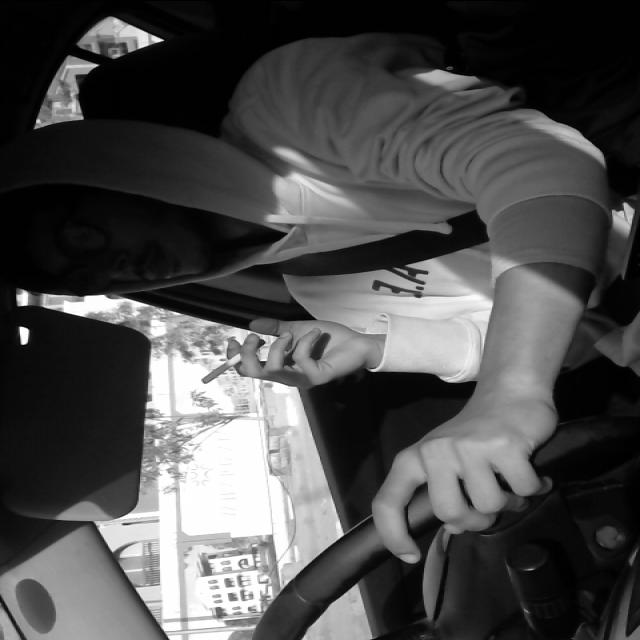smoking: (195, 330, 269, 388)
